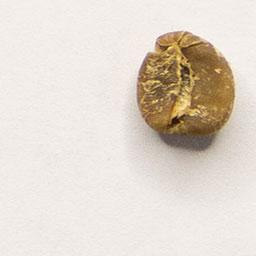defect: (132, 23, 241, 145)
